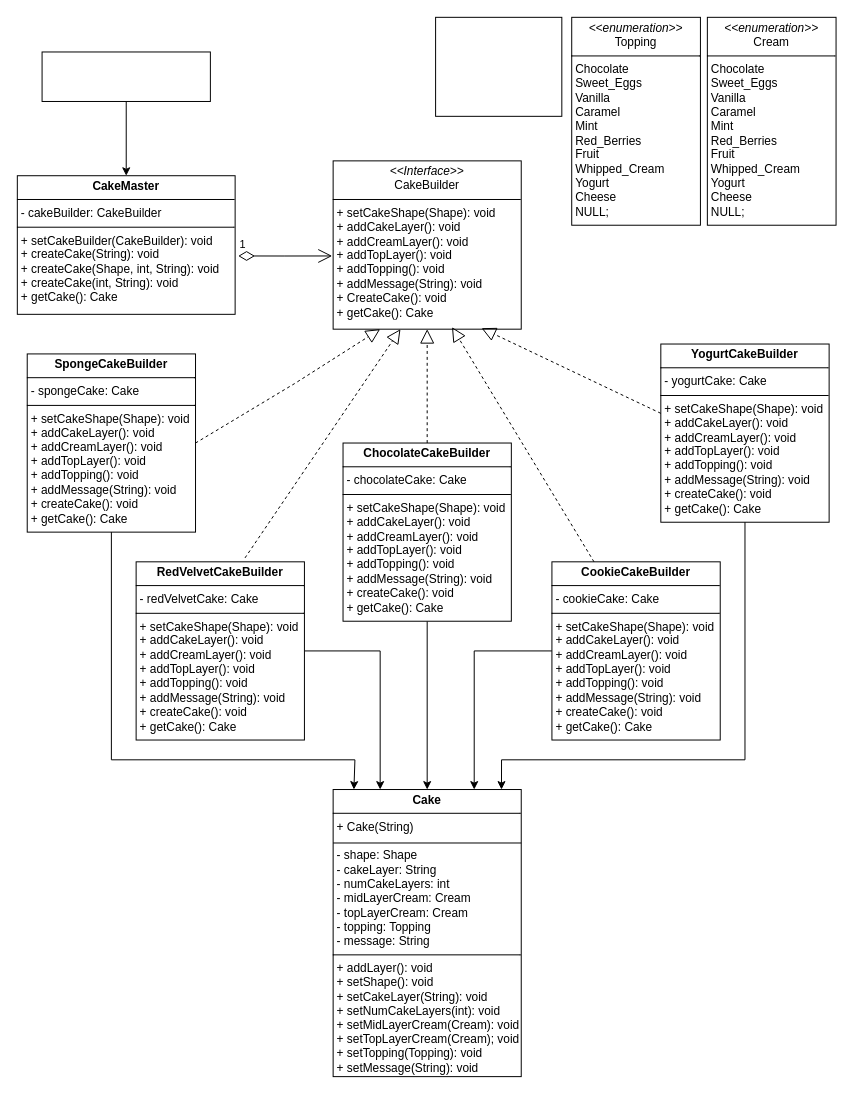
Some shapes in this 853 by 1094 pixel diagram are drawn without their labels. The centre of each missing label's shape, as x and y in pixels:
"<<enumeration>> Shape Circle Square Rectangular" belongs at [498,66].
"Lab06ex1 + main(String[]): void" belongs at [125,76].
